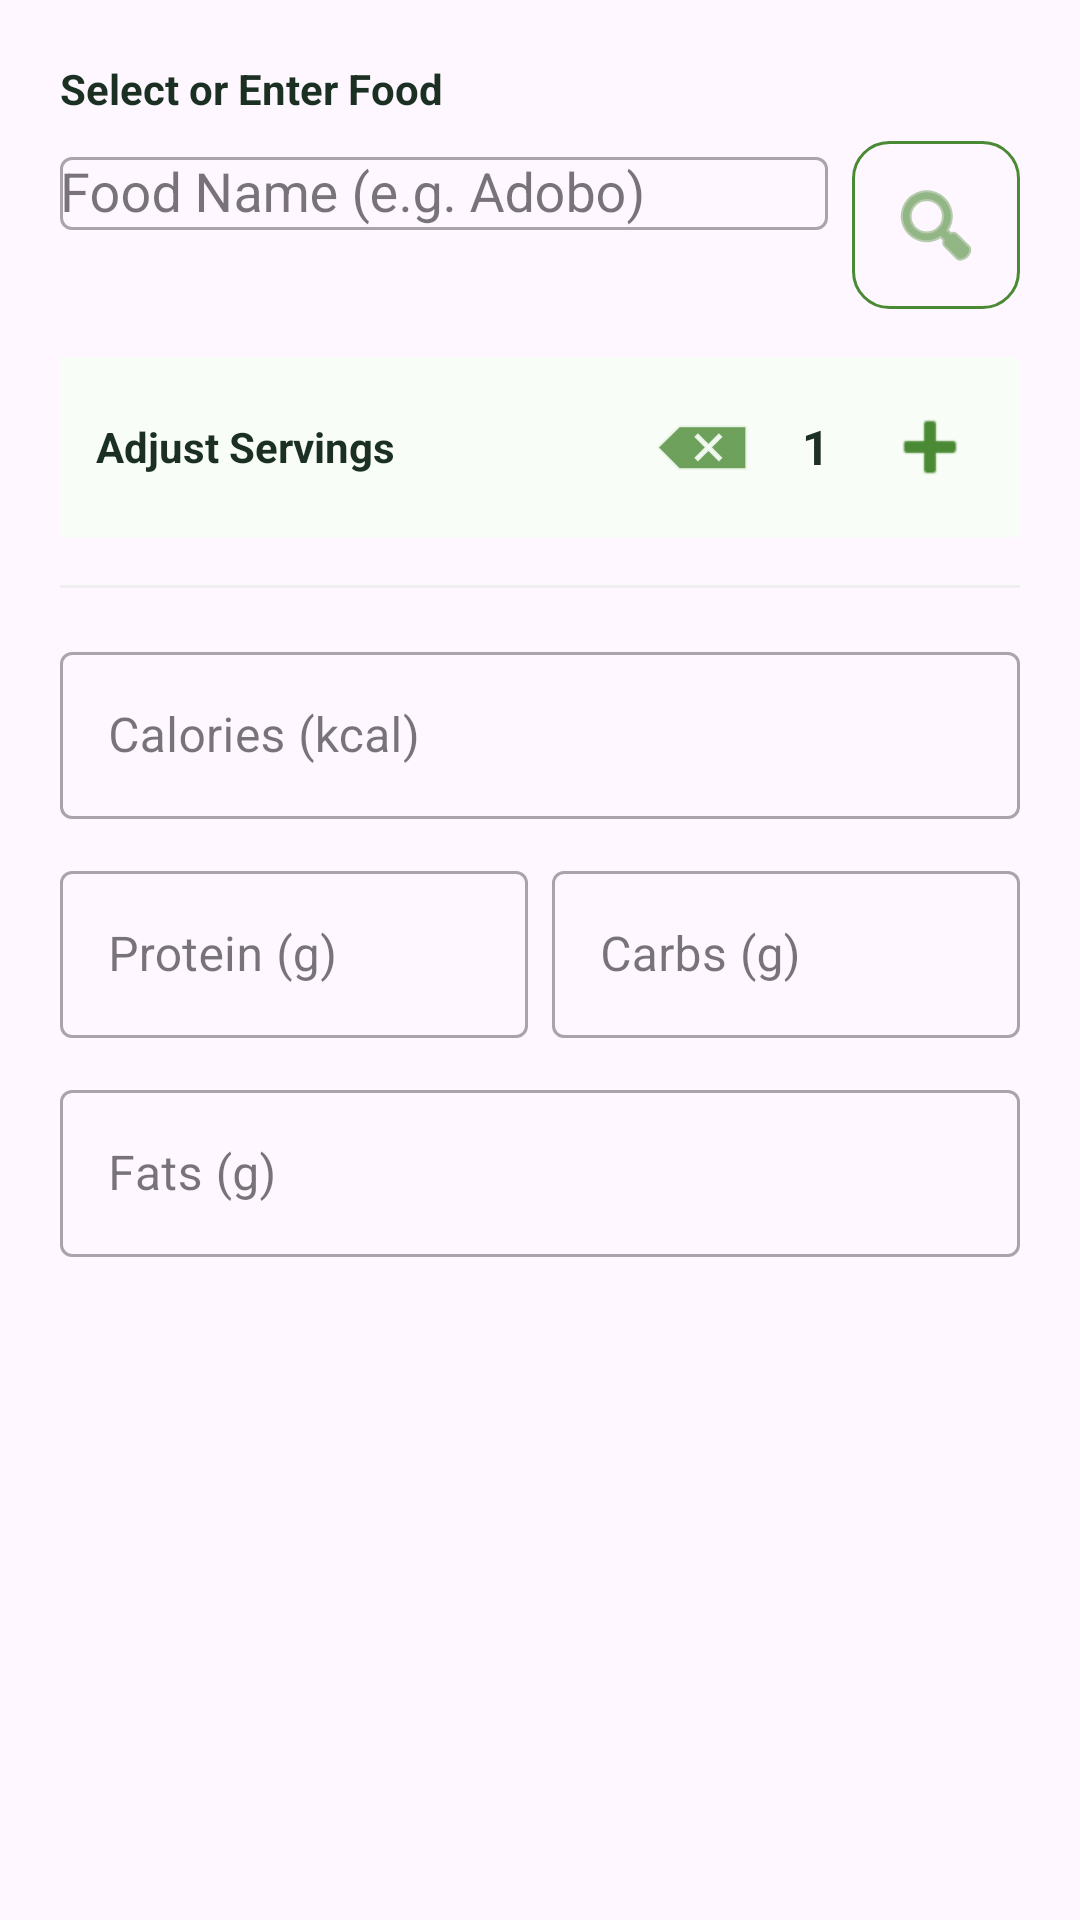

Icon bounding boxes for this 1080w x 1920h phone screenshot, format BBox(x1, y1, x2, y2):
add: BBox(903, 420, 957, 474)
delete: BBox(659, 427, 746, 469)
